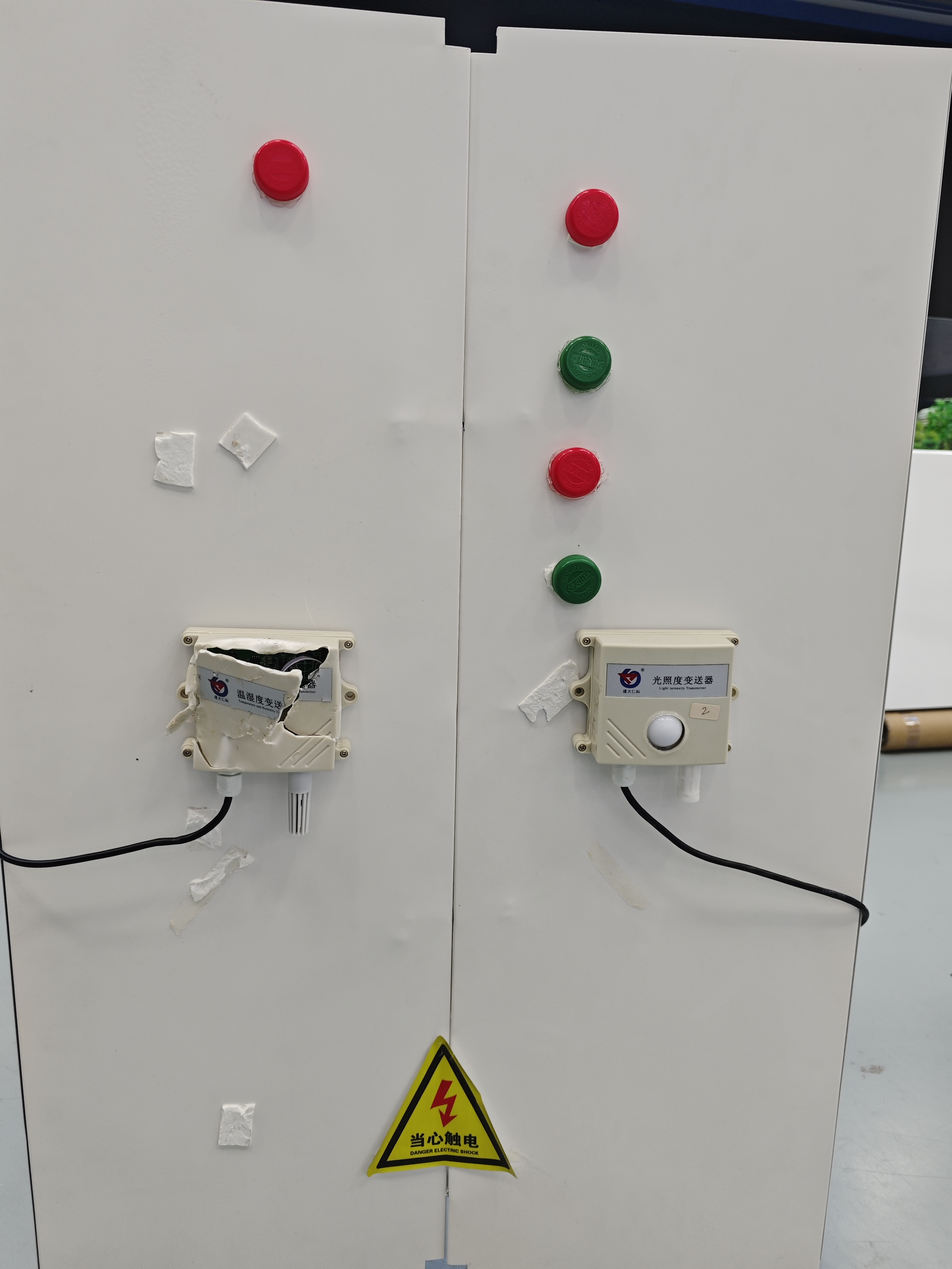red_warning: (533, 421, 658, 526), (543, 168, 651, 283), (235, 127, 329, 213)
sensor_damage: (151, 604, 376, 865)
